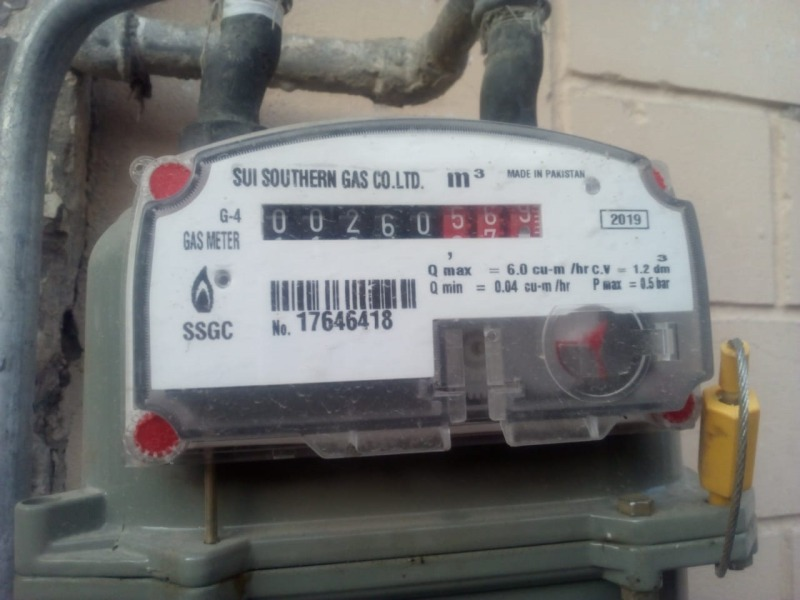ssgc: (257, 199, 546, 246)
